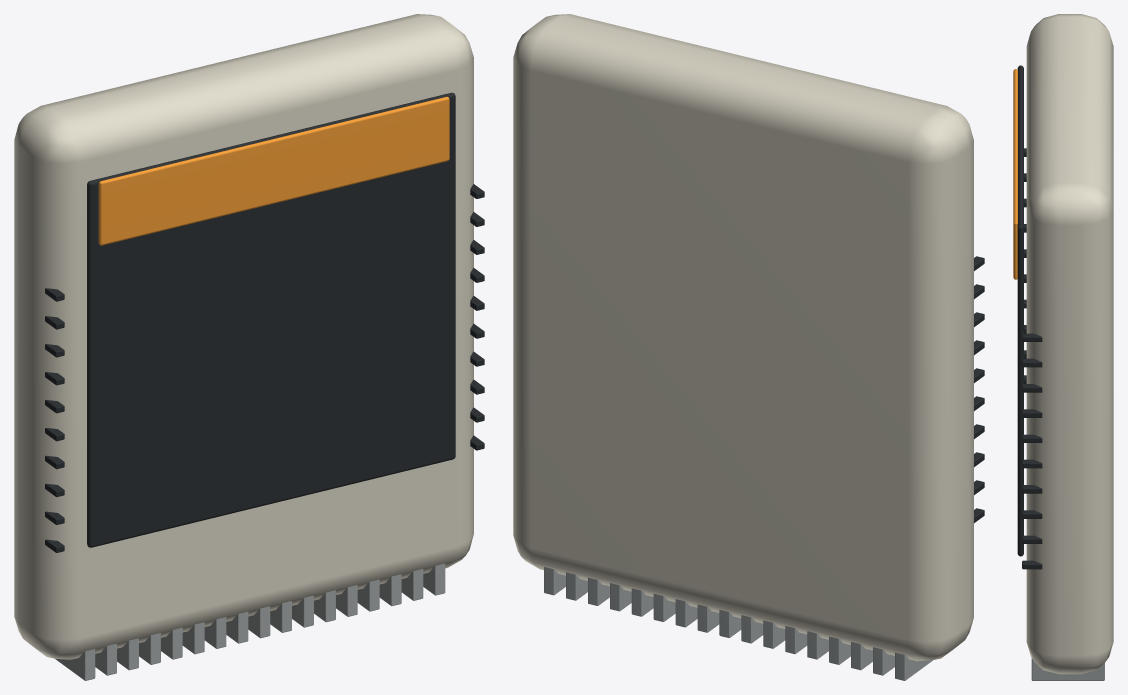
Rendered from game-cartridge.glb.
3 renders of one model, left to right at view 1: azimuth 30°, elevation 25°; view 2: azimuth 150°, elevation 25°; view 3: azimuth 270°, elevation 25°, orthographic. The views are drawn at different scales.
Parts seen in each view (by area): view 1: game-cartridge_Body; view 2: game-cartridge_Body; view 3: game-cartridge_Body.
Boxes of the visible parts, x1=… form: game-cartridge_Body: x1=14, y1=14, x2=484, y2=680; game-cartridge_Body: x1=513, y1=14, x2=984, y2=680; game-cartridge_Body: x1=1013, y1=14, x2=1113, y2=680.
Bounding box in the file's own units: 1 × 1.21 × 0.219.
